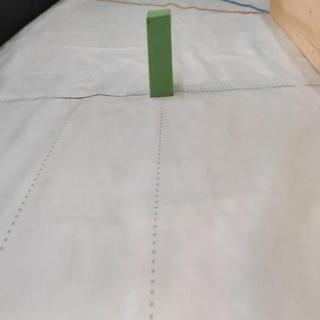greenbox: (148, 10, 174, 98)
